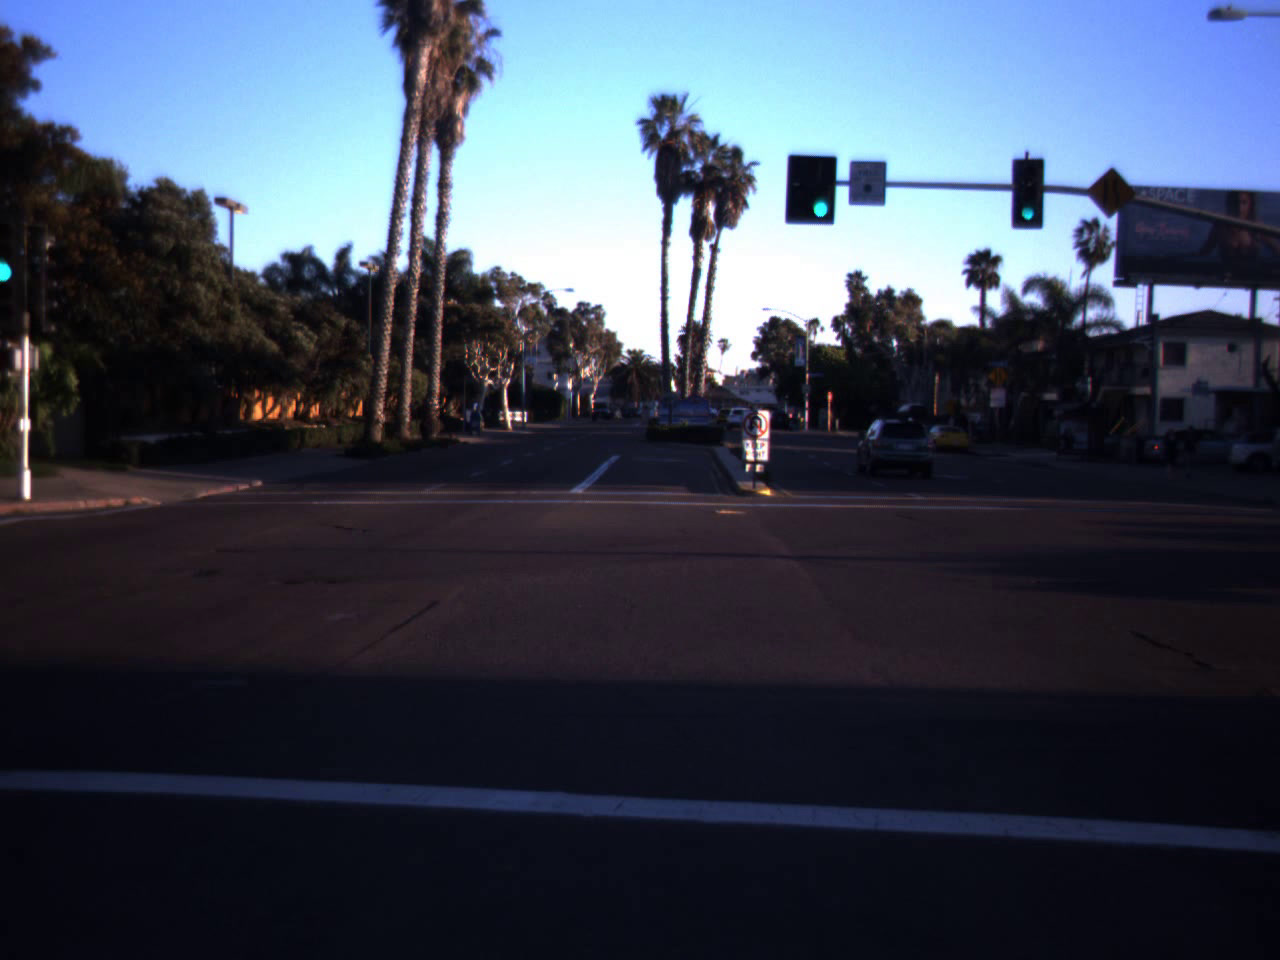go: (802, 157, 838, 222), (1016, 187, 1040, 222)
